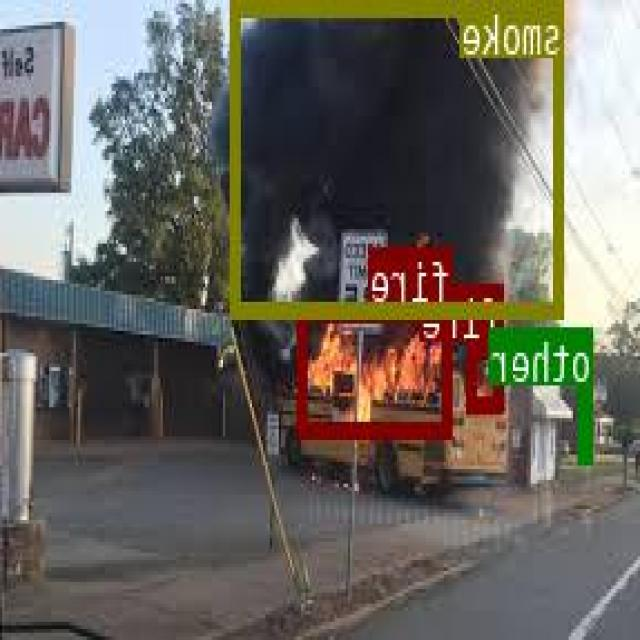fire: (300, 306, 455, 436), (469, 342, 505, 408)
other: (582, 382, 595, 458)
smoke: (232, 0, 567, 316)
